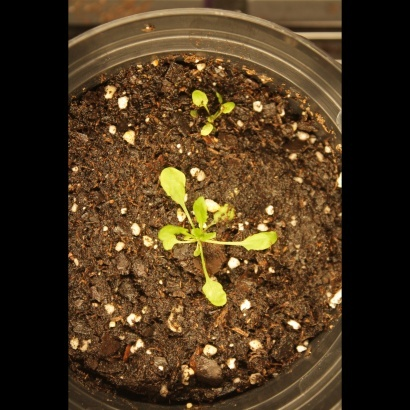leaf: (192, 267, 234, 313), (234, 227, 289, 258), (159, 161, 192, 210), (190, 191, 216, 227), (152, 216, 190, 239), (192, 223, 223, 248), (158, 235, 181, 258), (194, 120, 217, 143), (216, 96, 239, 119), (190, 88, 213, 111)
